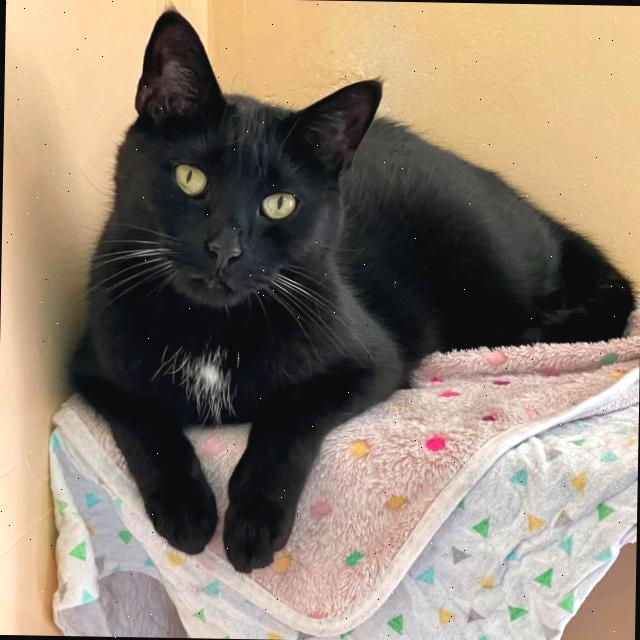bombay_cat: (94, 2, 392, 327)
